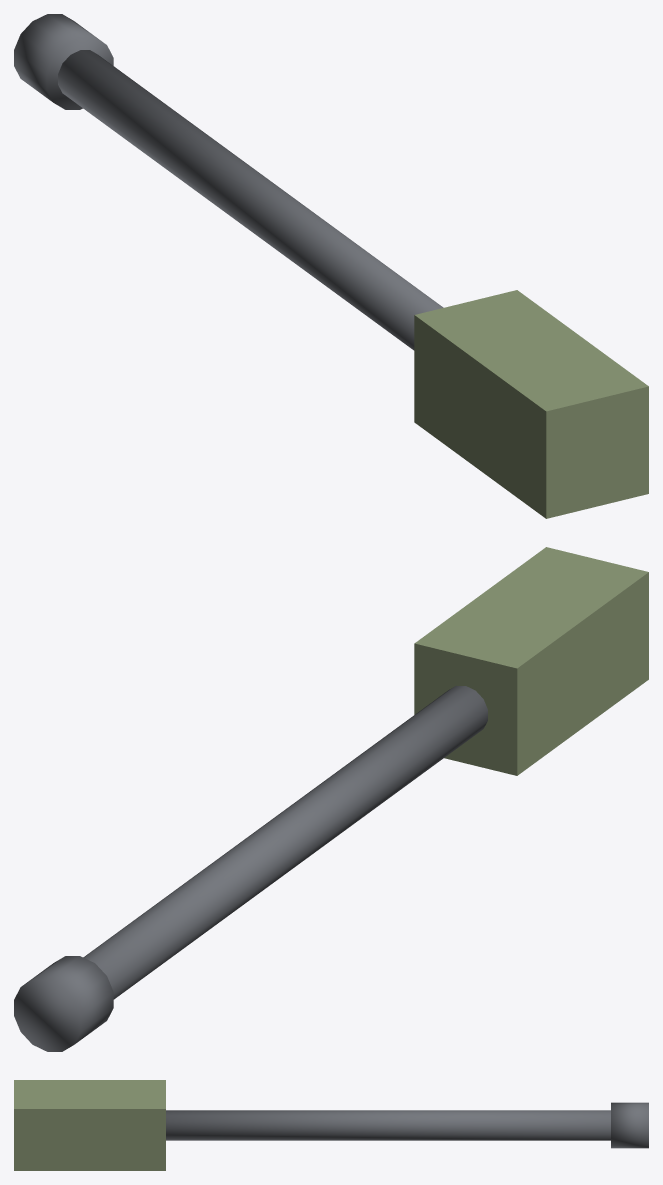
Rendered from howitzer_barrel.gltf.
The picture shows the model from 3 angles, top to bottom: view 1: azimuth 30°, elevation 25°; view 2: azimuth 150°, elevation 25°; view 3: azimuth 270°, elevation 25°; orthographic projection. The views are drawn at different scales.
Visible parts, largest first — view 1: howitzer_barrel; view 2: howitzer_barrel; view 3: howitzer_barrel.
Boxes of the visible parts, <box> form: howitzer_barrel: <box>14,14,648,518</box>; howitzer_barrel: <box>14,547,648,1051</box>; howitzer_barrel: <box>14,1080,648,1170</box>.
Bounding box in the file's own units: 0.45 × 0.45 × 4.17.
